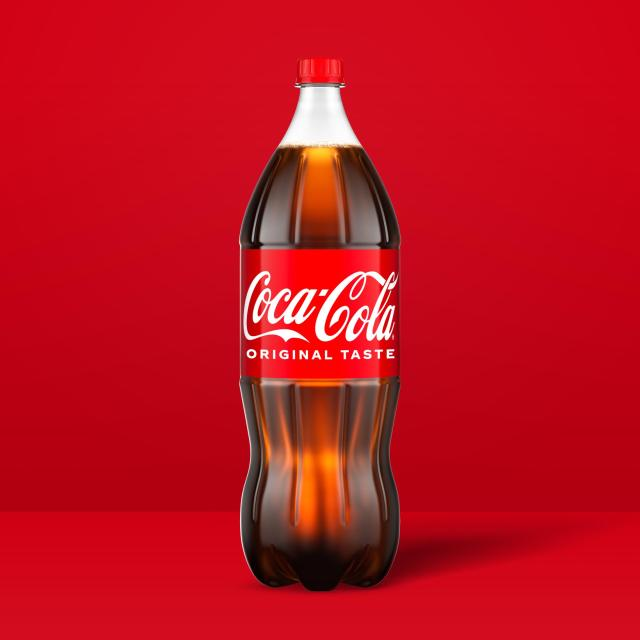cocacola: (196, 35, 421, 603)
